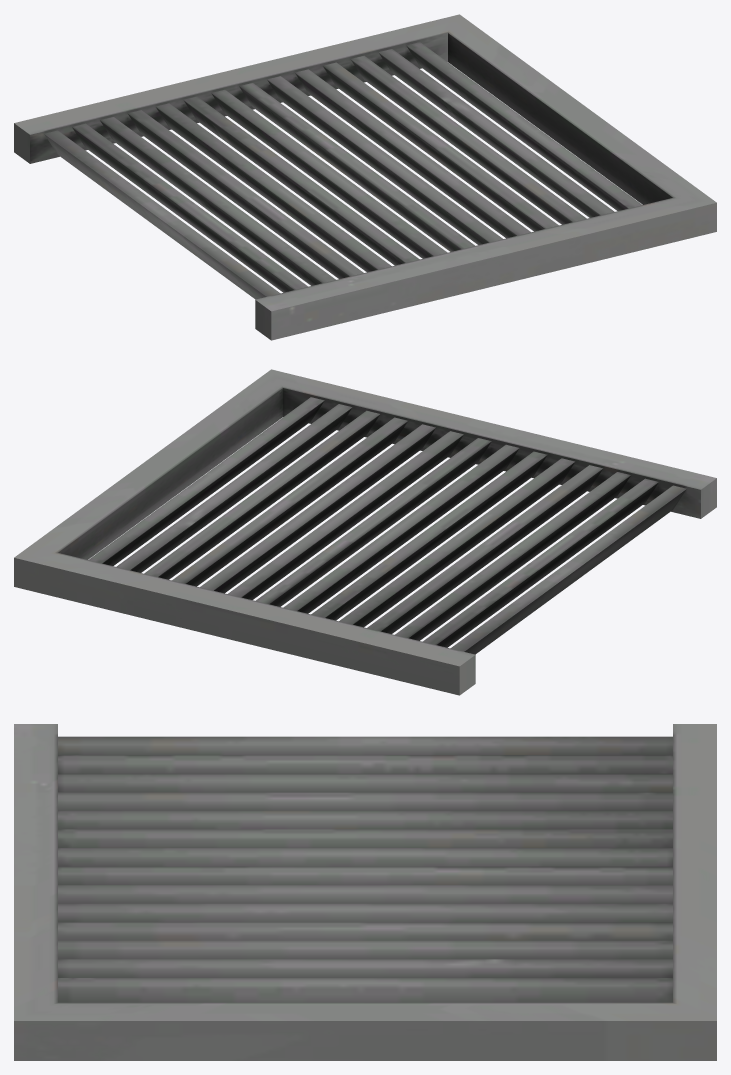
The model's file is vent_grill.glb.
3 renders of one model, top to bottom at view 1: azimuth 30°, elevation 25°; view 2: azimuth 150°, elevation 25°; view 3: azimuth 270°, elevation 25°, orthographic. The views are drawn at different scales.
Parts seen in each view (by area): view 1: vent_grill; view 2: vent_grill; view 3: vent_grill.
Part boxes in pixels (<box>): vent_grill: <box>14,14,716,340</box>; vent_grill: <box>14,369,716,695</box>; vent_grill: <box>14,724,716,1060</box>.
Size of the model in its own units: 1.22 by 0.0762 by 1.22.
1 material, 1 textured.
